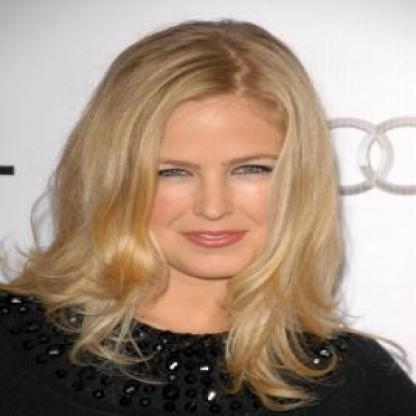long-hair: (6, 281, 370, 334)
